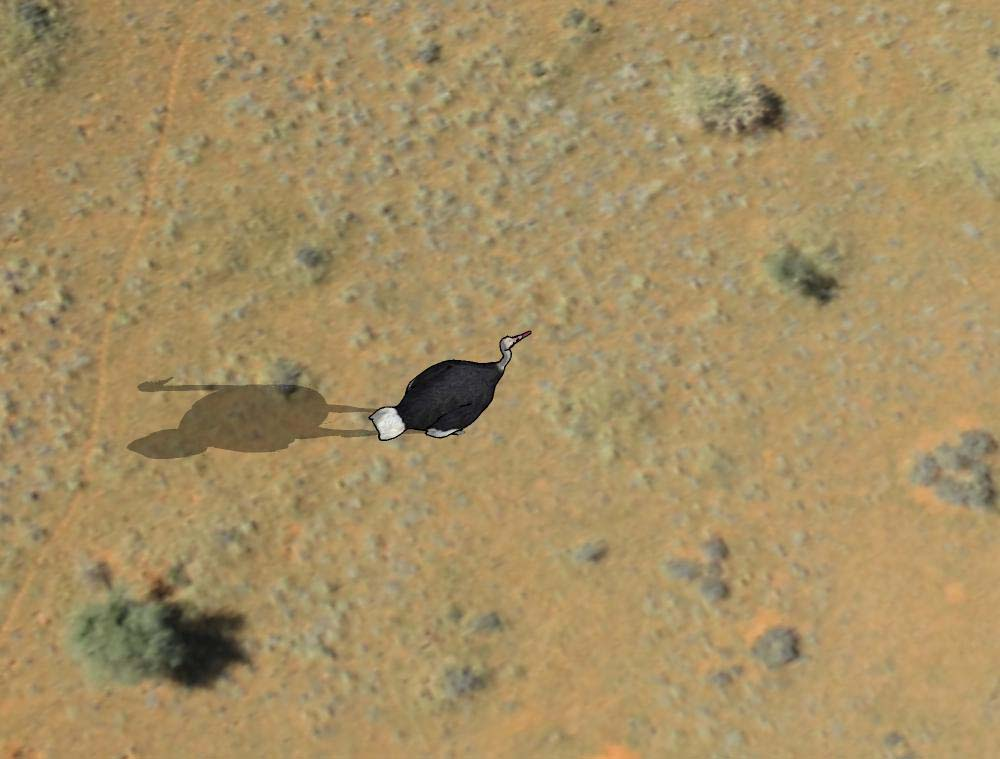springbok: (370, 329, 537, 444)
